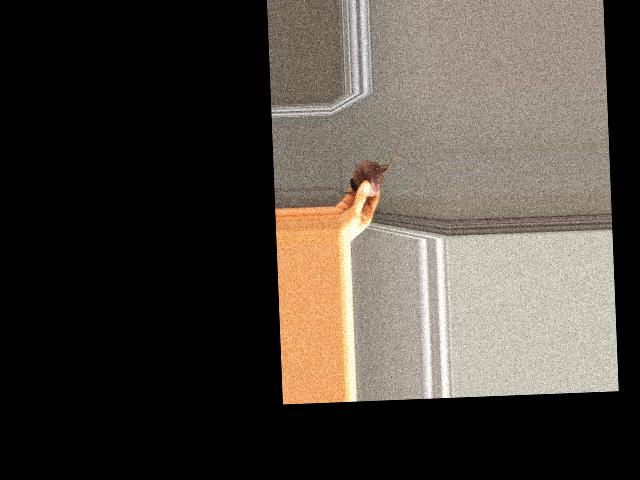beet: (332, 139, 400, 197)
